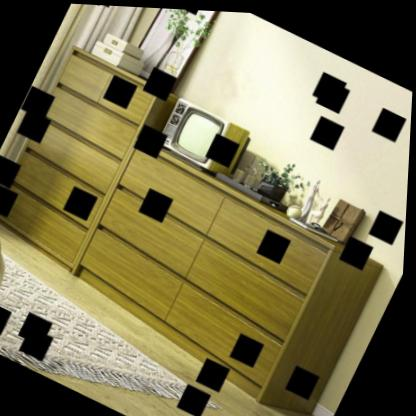Sideboard: (62, 141, 390, 416), (0, 37, 171, 275)
